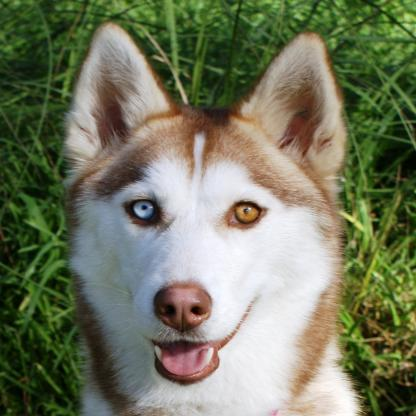dog: (60, 22, 361, 415)
